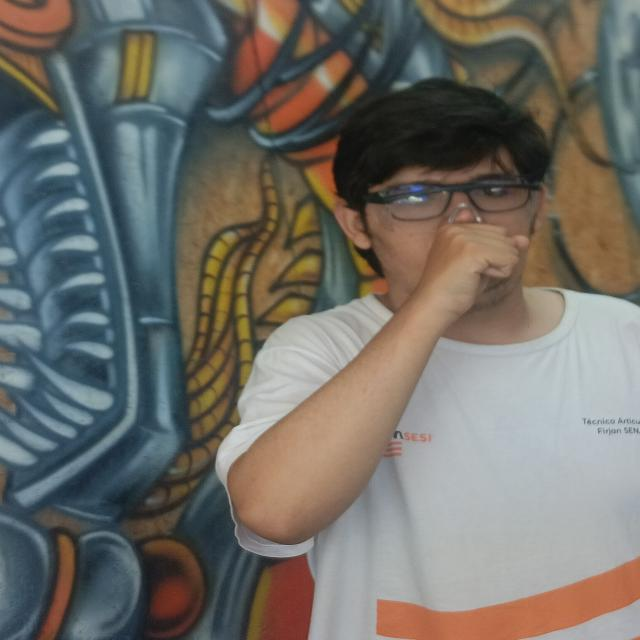oculos-epi: (342, 172, 548, 225)
